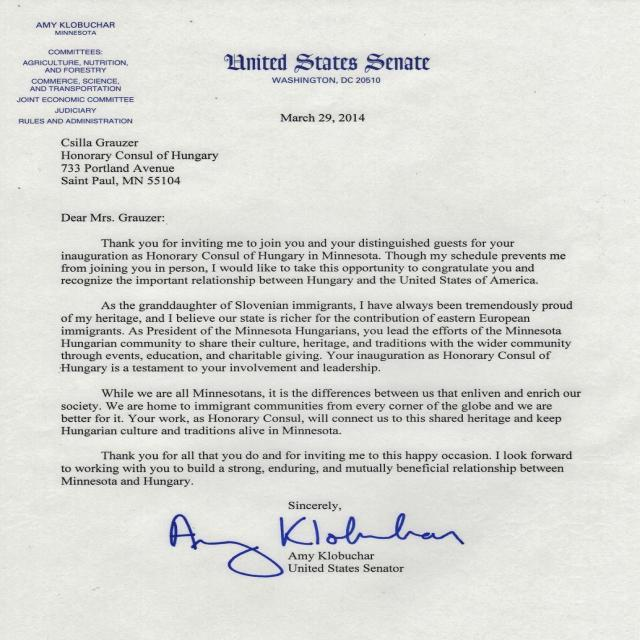signature: (165, 510, 475, 580)
